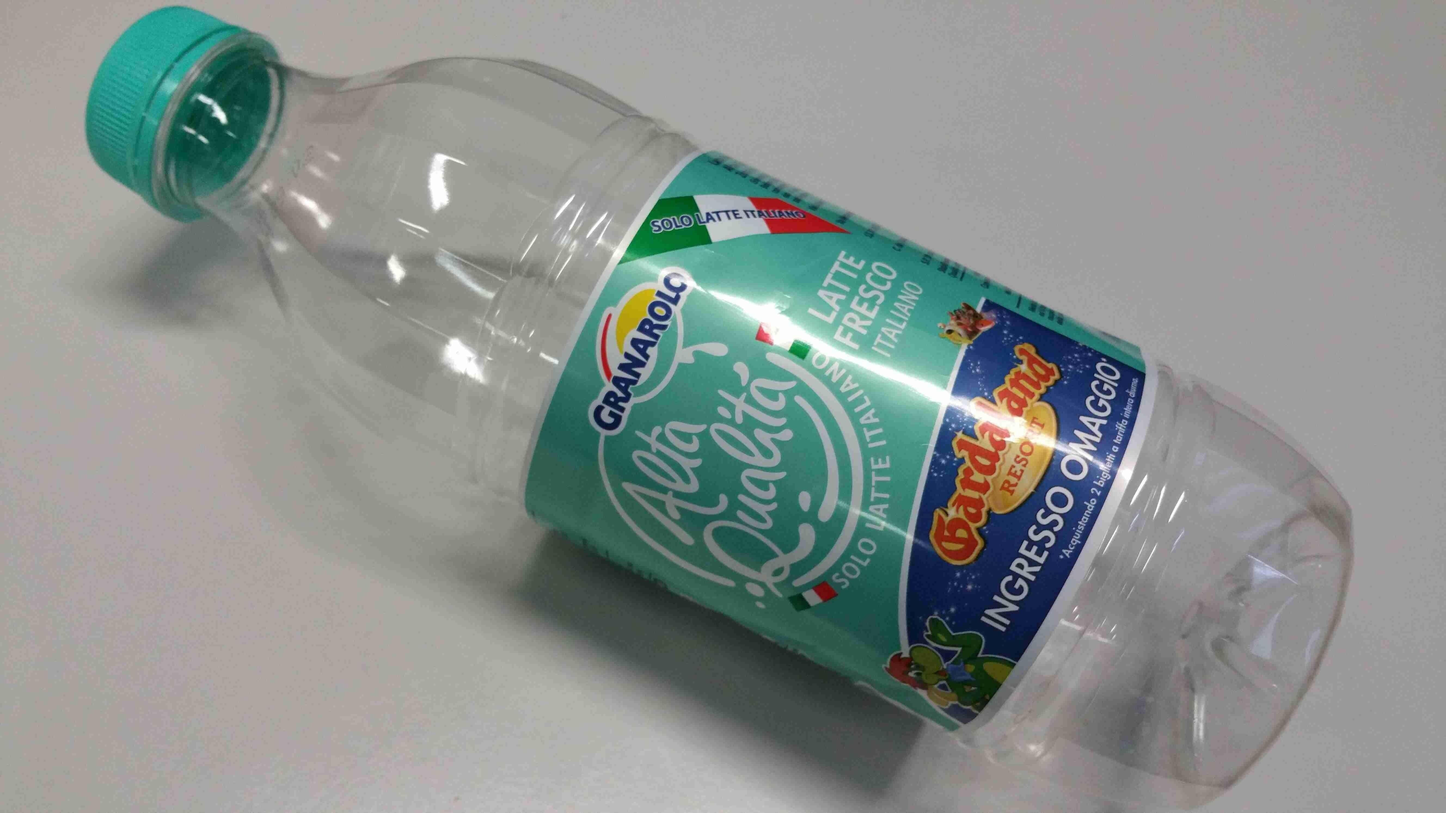bottle-plastic: (84, 3, 1359, 813)
